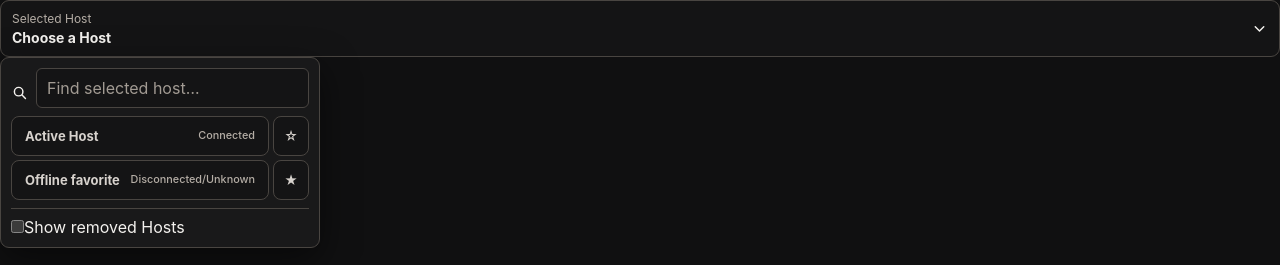
it: hides removed Hosts from names and search, orders active Hosts first, and never implies a hidden selection
This screenshot has width=1280, height=265.
Expected: the button "Active Host Connected" is shown, [11, 116, 269, 156]
Step 1. Type "Removed Host" into the field → (172,88), box [36, 68, 309, 108]
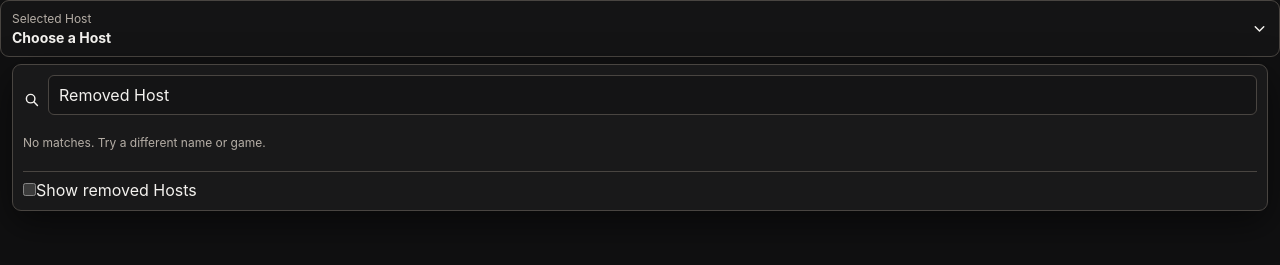
Now the text "No matches. Try a different name or game." is shown, box [23, 135, 266, 150]
